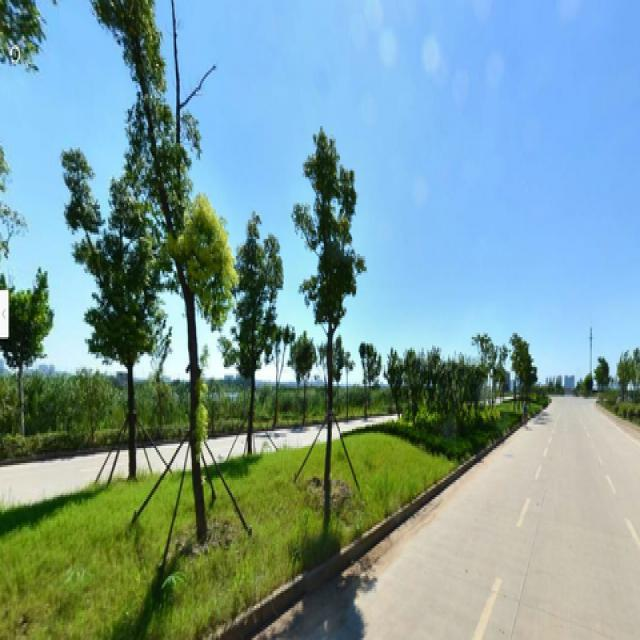cinn: (78, 175, 154, 474), (305, 115, 359, 497), (229, 214, 276, 486)
